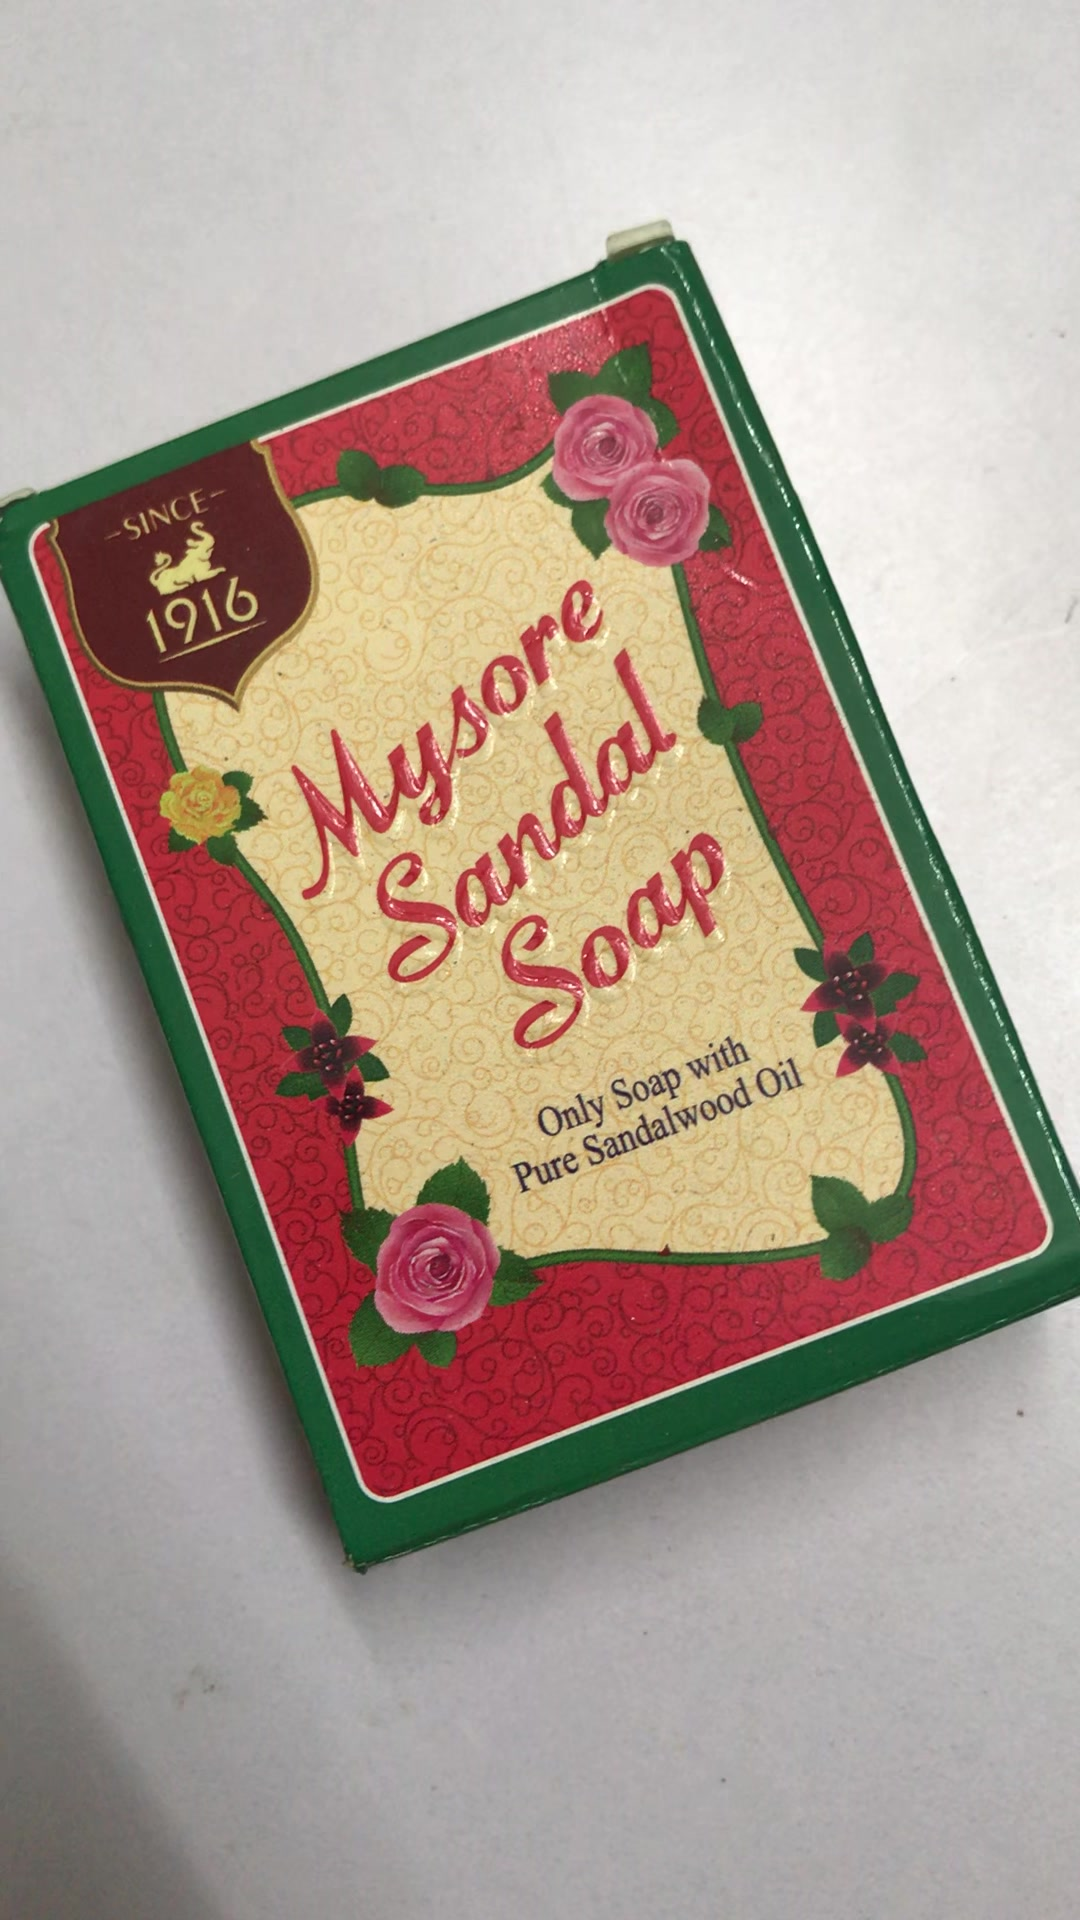mysore sandal soap: (9, 233, 1080, 1565)
